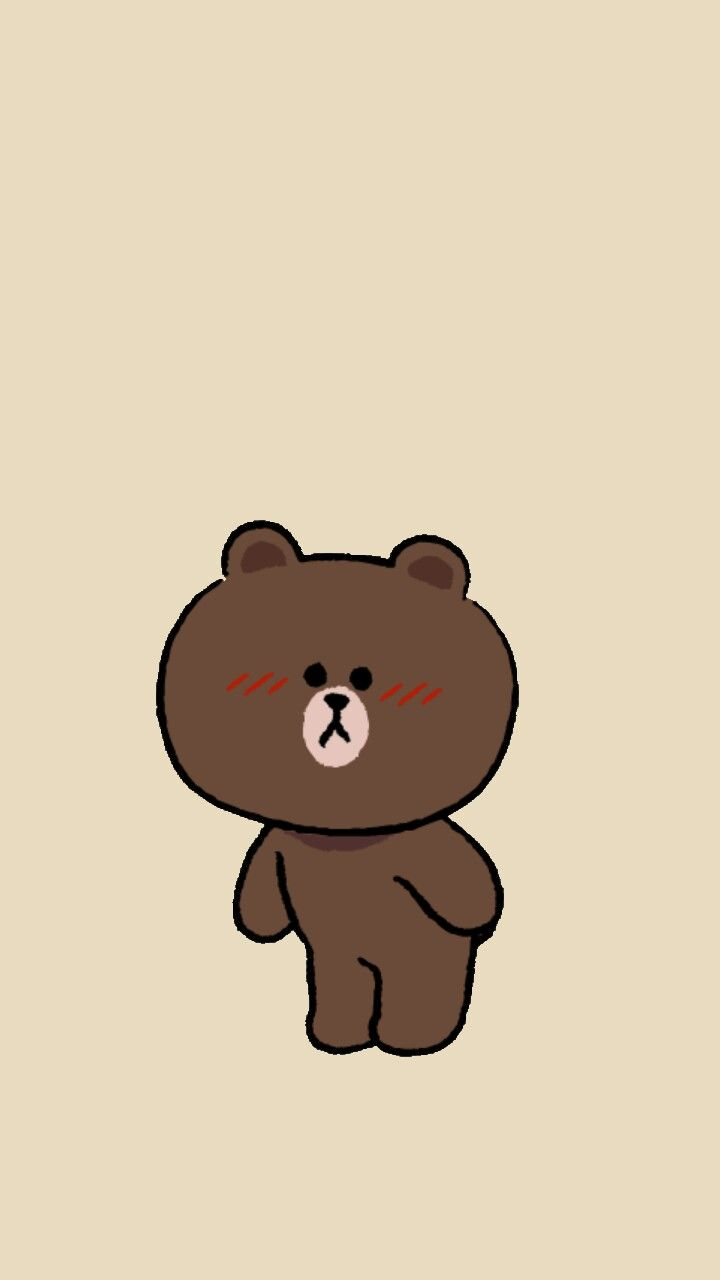line_brown: (132, 509, 550, 841)
